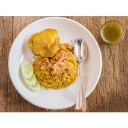briyani: (30, 33, 75, 88)
